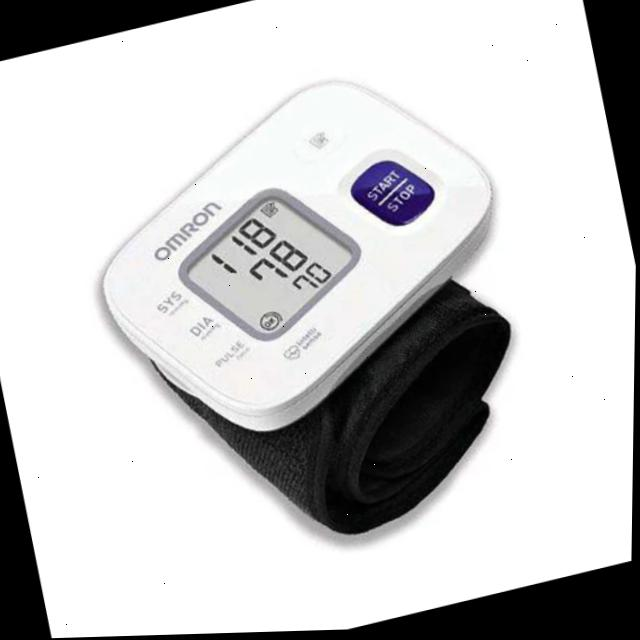dia: (240, 229, 314, 300)
pul: (289, 251, 342, 304)
ssd: (186, 180, 359, 351)
sys: (203, 204, 283, 283)
